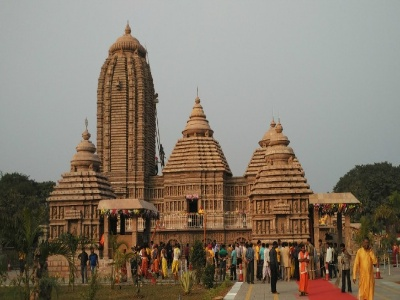amalaka: (100, 39, 154, 58)
gopuram: (86, 53, 163, 183)
